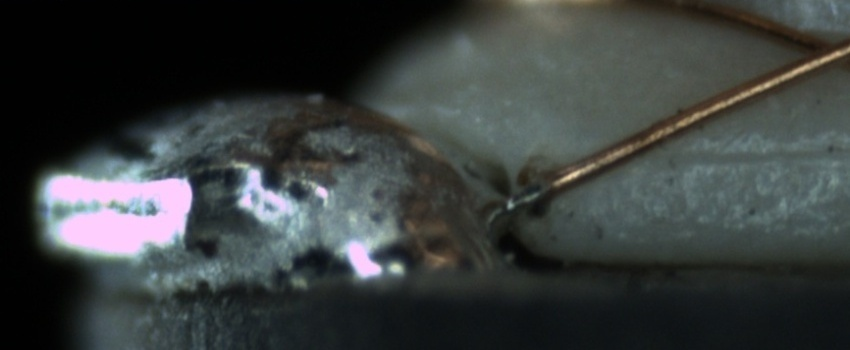CL: (772, 19, 850, 80)
DL: (629, 117, 849, 189)
TS: (504, 177, 548, 215)
